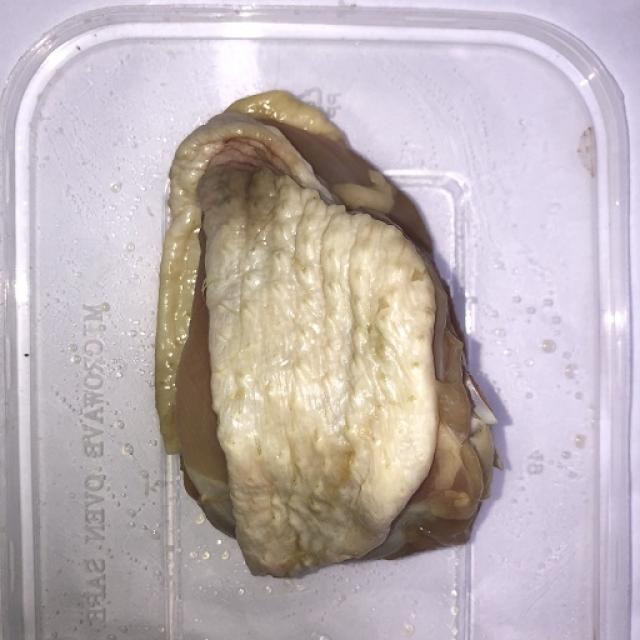chicken: (153, 88, 500, 579)
